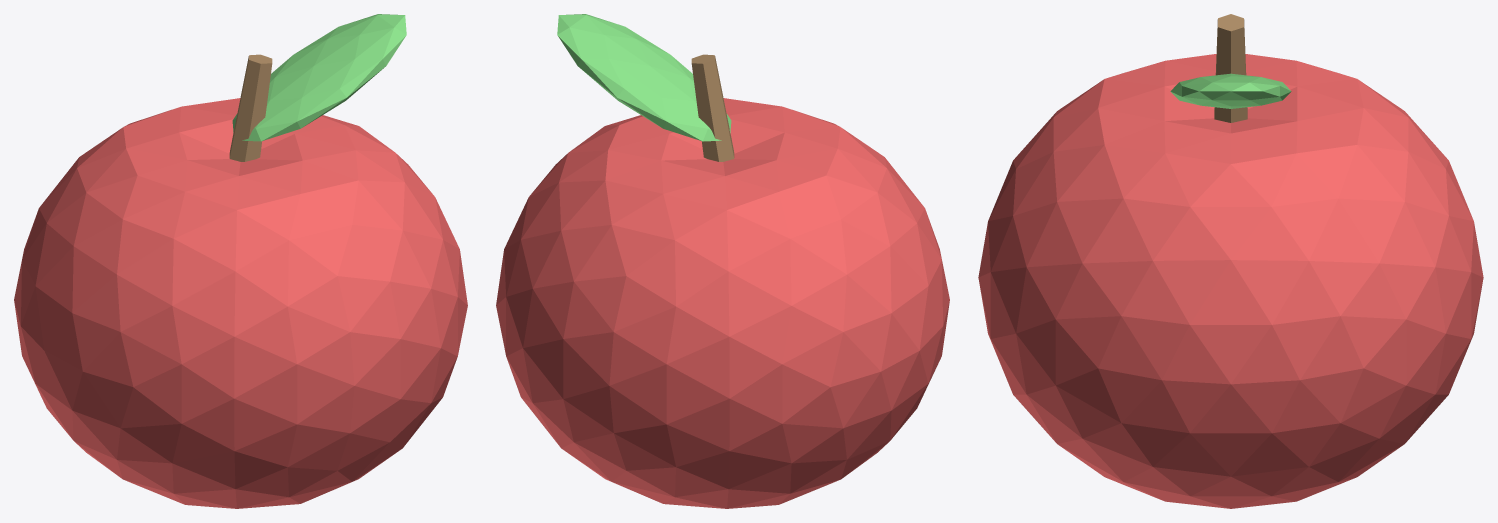
The model's file is Apple.glb.
The picture shows the model from 3 angles, left to right: view 1: azimuth 30°, elevation 25°; view 2: azimuth 150°, elevation 25°; view 3: azimuth 270°, elevation 25°; orthographic projection. The views are drawn at different scales.
Parts seen in each view (by area): view 1: Apple_AppleBody, Apple_AppleLeaf, Apple_AppleStem; view 2: Apple_AppleBody, Apple_AppleLeaf, Apple_AppleStem; view 3: Apple_AppleBody, Apple_AppleLeaf, Apple_AppleStem.
Boxes of the visible parts, box(x1,y1,x2,y2) form: Apple_AppleBody: box(14, 98, 467, 508); Apple_AppleLeaf: box(232, 14, 406, 141); Apple_AppleStem: box(229, 54, 272, 161); Apple_AppleBody: box(496, 98, 949, 508); Apple_AppleLeaf: box(557, 14, 731, 141); Apple_AppleStem: box(691, 54, 734, 161); Apple_AppleBody: box(978, 54, 1483, 508); Apple_AppleLeaf: box(1170, 73, 1291, 108); Apple_AppleStem: box(1214, 14, 1247, 122).
Bounding box in the file's own units: 1 × 1.01 × 1.
